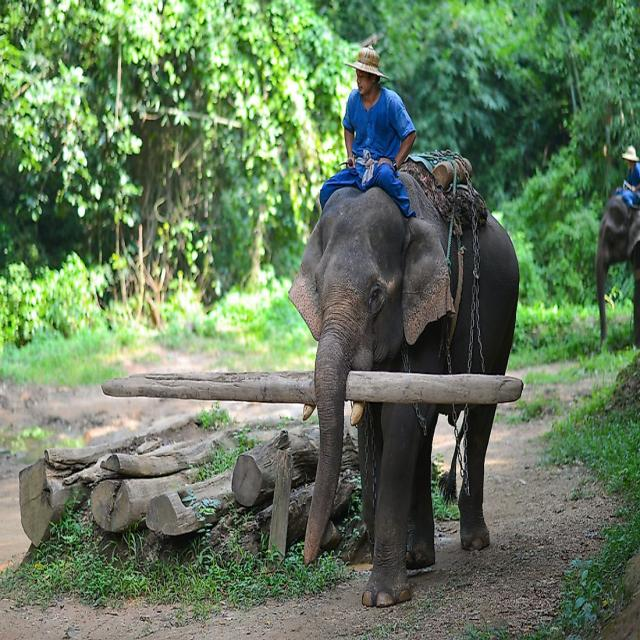Elephant: (295, 147, 511, 608)
